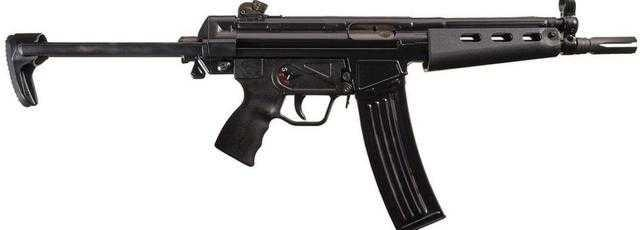heavyweapon: (9, 5, 636, 230)
